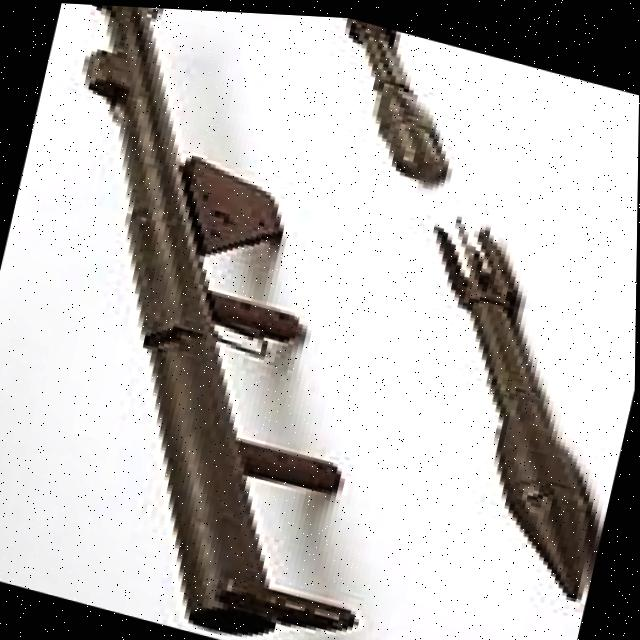grenade: (342, 193, 638, 595), (302, 12, 479, 179)
rocket: (0, 0, 482, 640)
